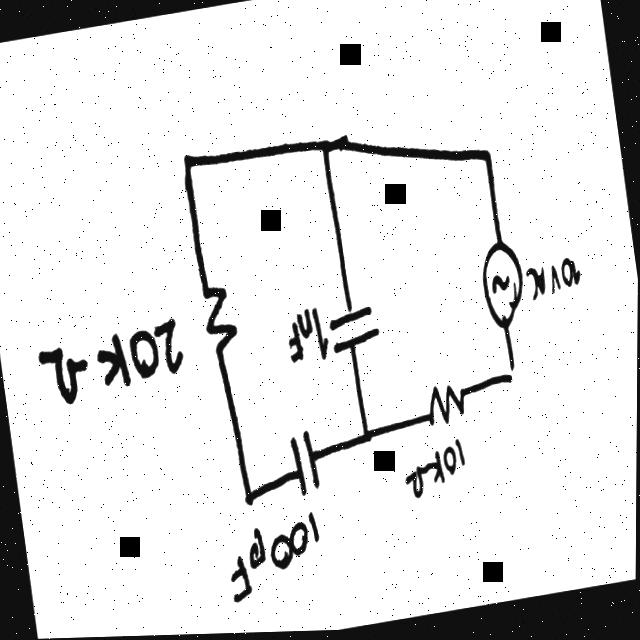capacitor: (323, 298, 383, 361), (283, 424, 324, 504)
junction: (176, 146, 200, 185), (312, 130, 335, 167), (353, 421, 378, 451), (237, 484, 258, 515), (476, 144, 497, 174), (501, 365, 521, 392)
resistor: (196, 275, 243, 363), (421, 378, 470, 431)
source: (475, 237, 530, 336)
text: (34, 317, 188, 411), (223, 512, 332, 610), (398, 439, 474, 507), (522, 251, 590, 307), (280, 305, 332, 368)
